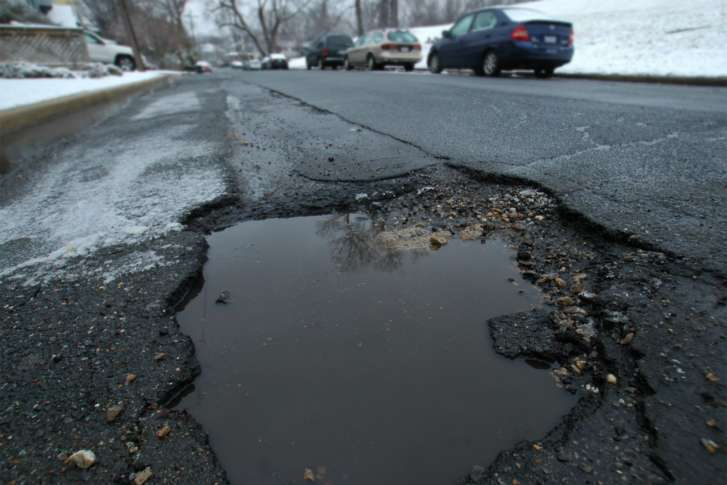pothole: (151, 181, 579, 483)
